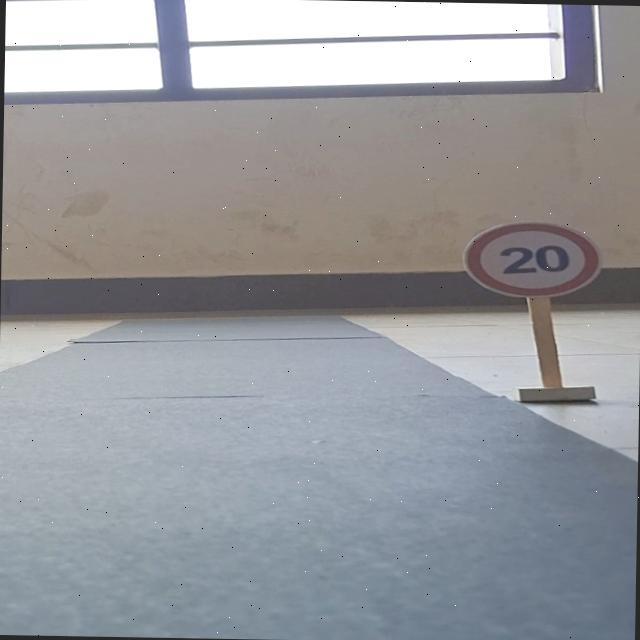Speed20: (449, 214, 611, 304)
